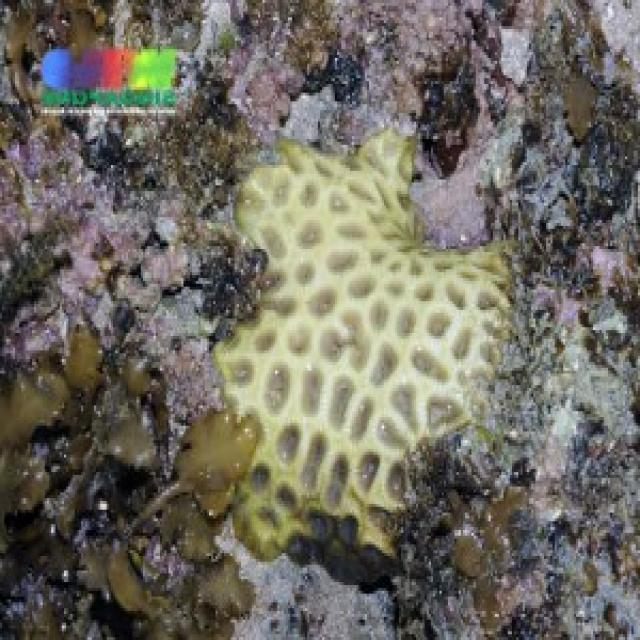Bleached: (216, 125, 501, 555)
Healthy: (1, 329, 243, 640), (1, 1, 98, 109)
